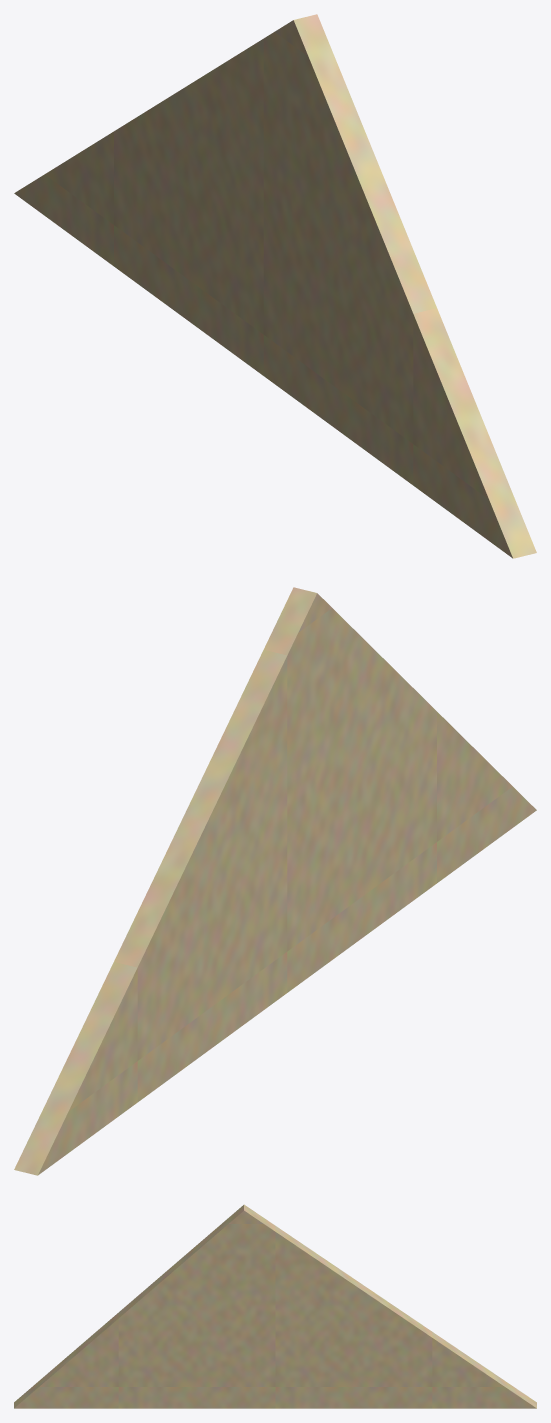
File: SM_HH_V2_Gable_Rear.fbx
3 renders of one model, top to bottom at view 1: azimuth 30°, elevation 25°; view 2: azimuth 150°, elevation 25°; view 3: azimuth 270°, elevation 25°, orthographic. The views are drawn at different scales.
Visible parts, largest first — view 1: HH_V2_Gable_Rear; view 2: HH_V2_Gable_Rear; view 3: HH_V2_Gable_Rear.
Part boxes in pixels (left/top/right/bottom): HH_V2_Gable_Rear: left=14, top=14, right=536, bottom=558; HH_V2_Gable_Rear: left=14, top=587, right=536, bottom=1175; HH_V2_Gable_Rear: left=14, top=1204, right=536, bottom=1408.
Size of the model in its own units: 8.74 by 0.24 by 3.65.
